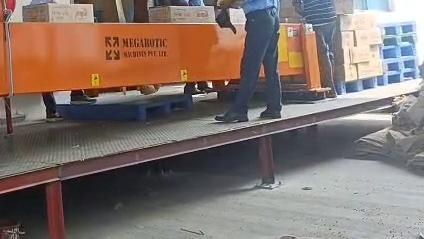box: (22, 3, 93, 22), (149, 6, 214, 22), (338, 12, 377, 30), (343, 28, 382, 45), (334, 32, 355, 63), (347, 45, 380, 63), (356, 60, 383, 78), (333, 64, 358, 81), (279, 8, 302, 22), (334, 47, 351, 65), (336, 31, 355, 47), (229, 8, 245, 24)
